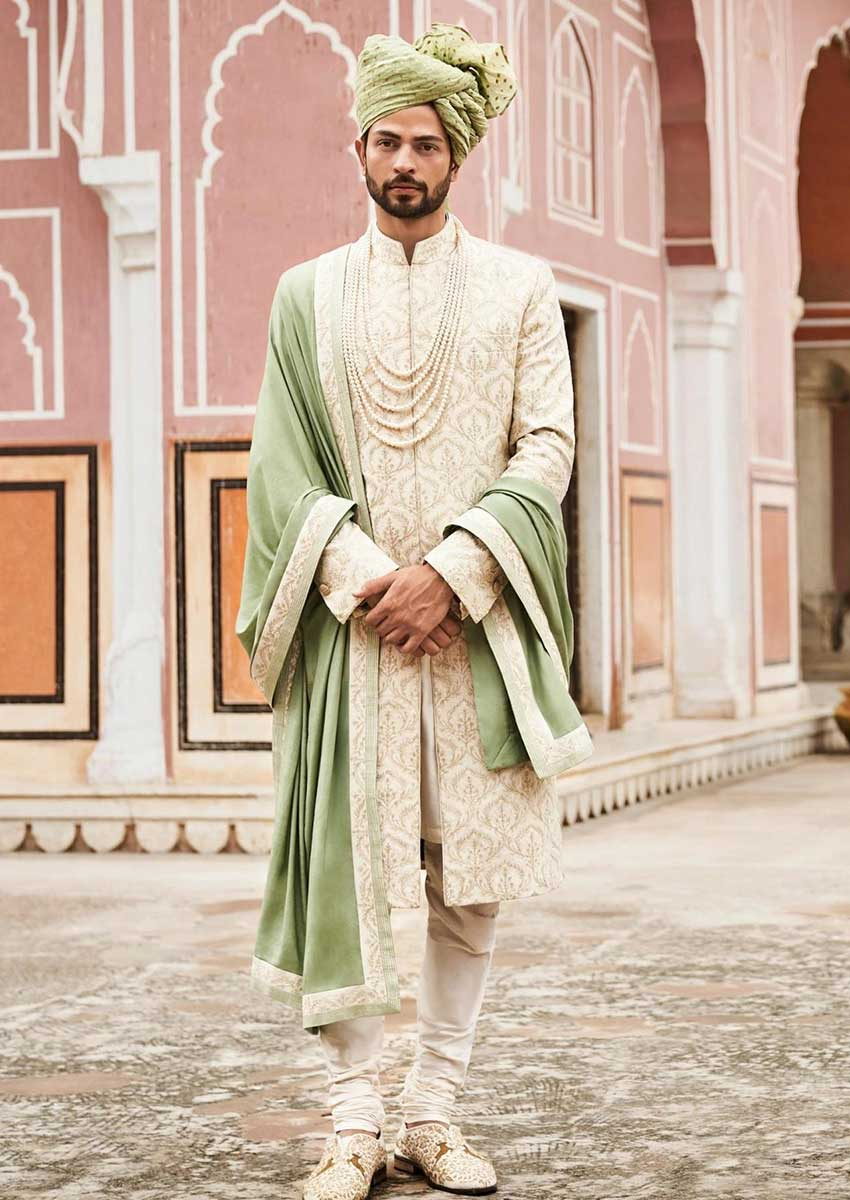Sherwani: (232, 181, 582, 1054)
